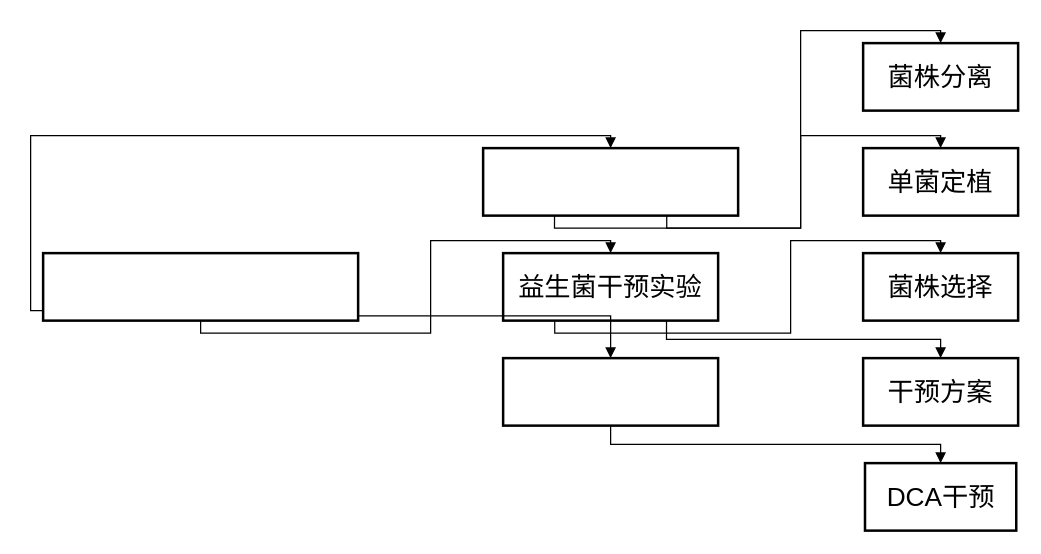
This 1041x554 diagram has some shape labels left out. The centre of each missing label's shape, as x and y in pixels:
"代谢物回补实验" goes at point (610, 391).
"关键菌株与代谢物功能验证" goes at point (200, 286).
"关键菌株分离与定植" goes at point (610, 181).
